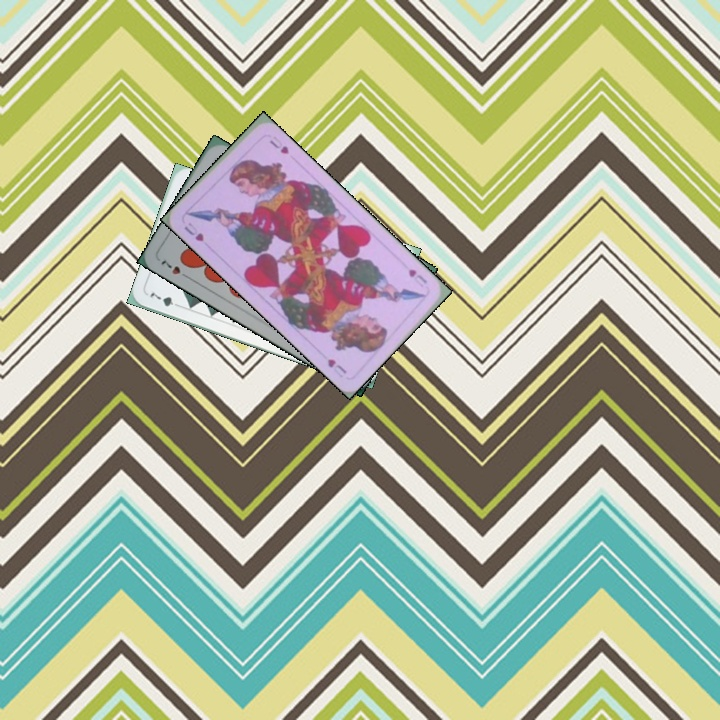G7: (146, 288, 184, 309)
H7: (157, 255, 193, 282)
HU: (180, 218, 206, 244), (404, 265, 430, 290)
